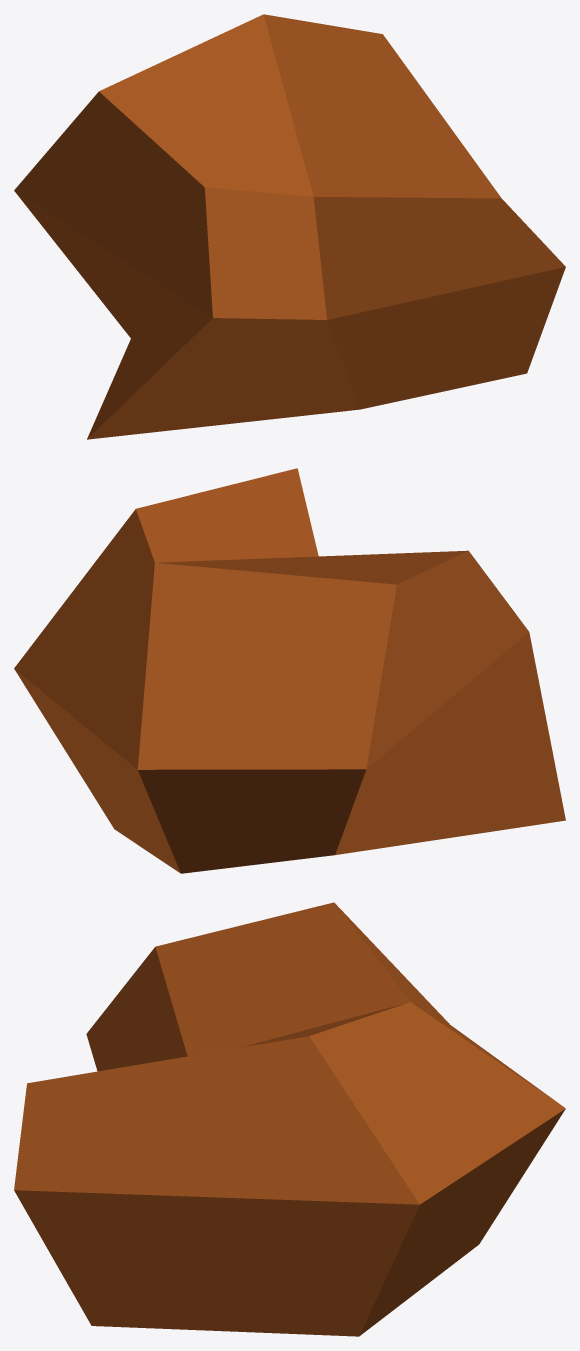
Rendered from Stone03.FBX.
3 renders of one model, top to bottom at view 1: azimuth 30°, elevation 25°; view 2: azimuth 150°, elevation 25°; view 3: azimuth 270°, elevation 25°, orthographic.
Visible parts, largest first — view 1: Box003; view 2: Box003; view 3: Box003.
Part boxes in pixels (x1=…): Box003: x1=14, y1=14, x2=565, y2=439; Box003: x1=14, y1=468, x2=565, y2=873; Box003: x1=14, y1=902, x2=565, y2=1336.
Size of the model in its own units: 63.33 by 42.34 by 70.11.
